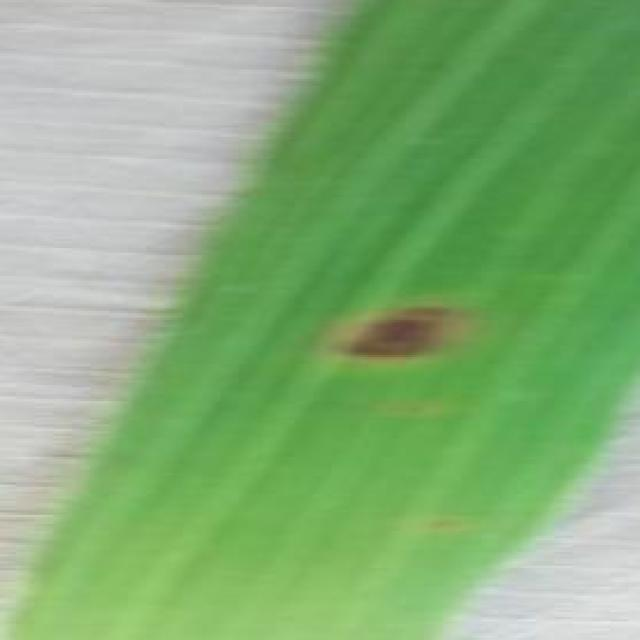Brown_Spot: (316, 294, 466, 384)
